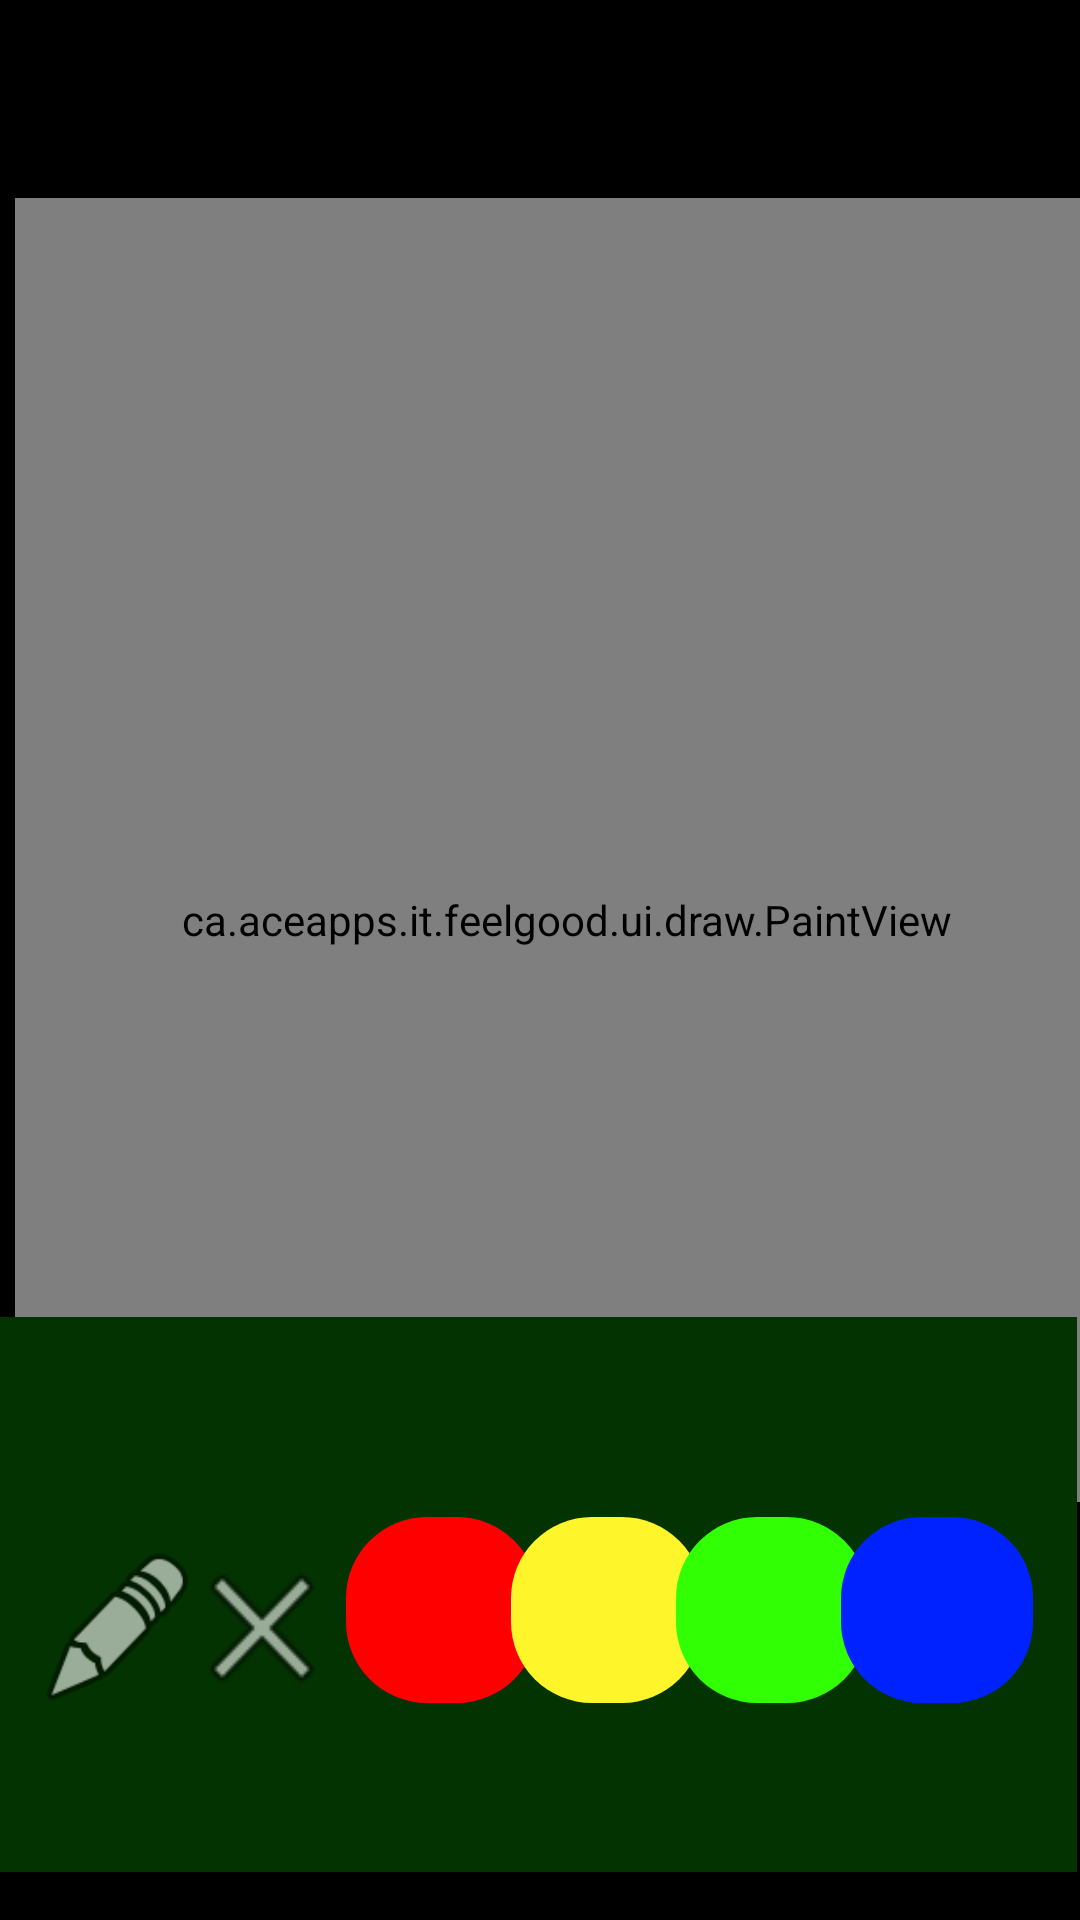

Named icons in this screenshot (1080x1920) and their bounding boxes, (x1, y1, x2, y2):
close clear cancel: (184, 1578, 310, 1677)
edit: (50, 1557, 185, 1697)
